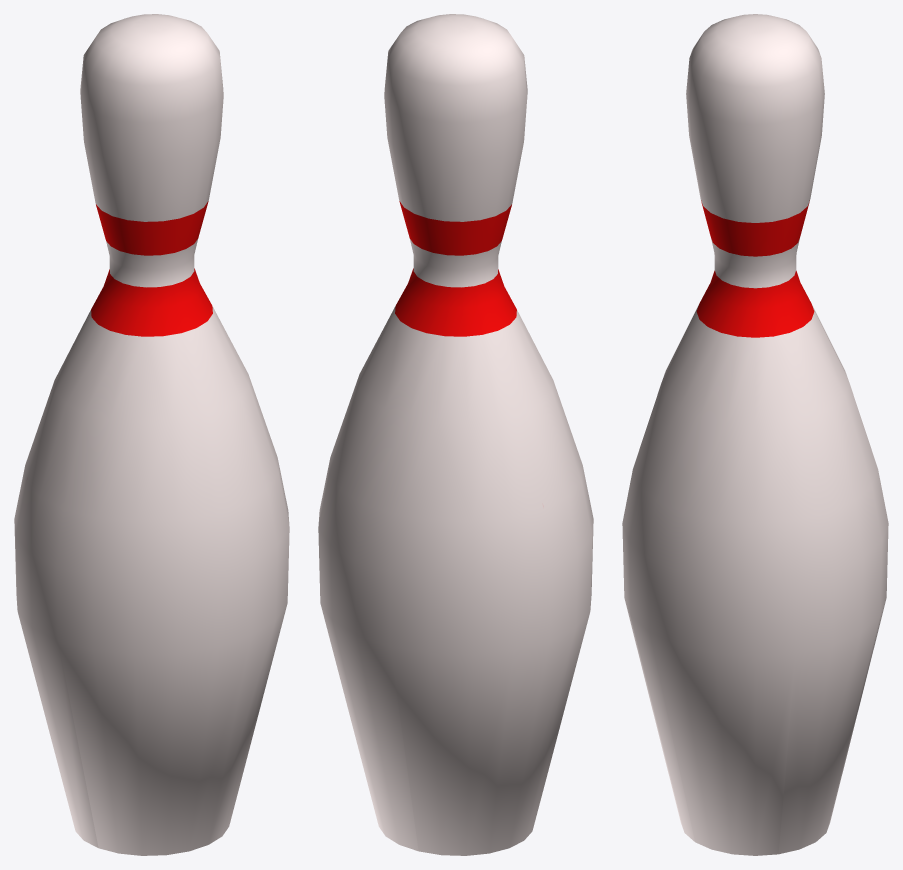
The model's file is pin.glb.
3 renders of one model, left to right at view 1: azimuth 30°, elevation 25°; view 2: azimuth 150°, elevation 25°; view 3: azimuth 270°, elevation 25°, orthographic.
Visible parts, largest first — view 1: kolka2.001; view 2: kolka2.001; view 3: kolka2.001.
Boxes of the visible parts, x1,y1,x2,y2 form: kolka2.001: (14,14,289,855); kolka2.001: (318,14,593,855); kolka2.001: (622,14,888,855).
Bounding box in the file's own units: 0.1172 × 0.368 × 0.1112.
1 material, 1 textured.
